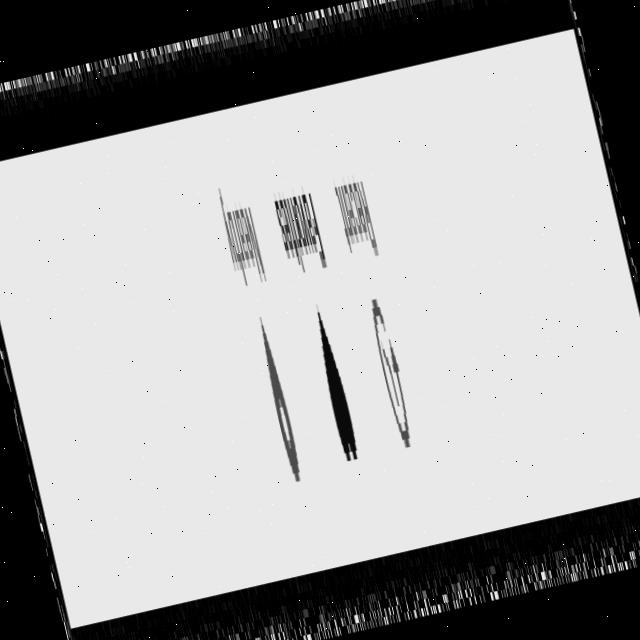QLabel: (270, 176, 330, 284), (216, 186, 270, 296), (332, 174, 382, 266)
VBottomNavigation: (0, 7, 640, 634)
VBtn: (260, 145, 382, 500), (322, 139, 438, 496), (208, 165, 322, 515)
VIcon: (308, 298, 366, 480), (250, 302, 306, 489), (362, 282, 417, 450)
